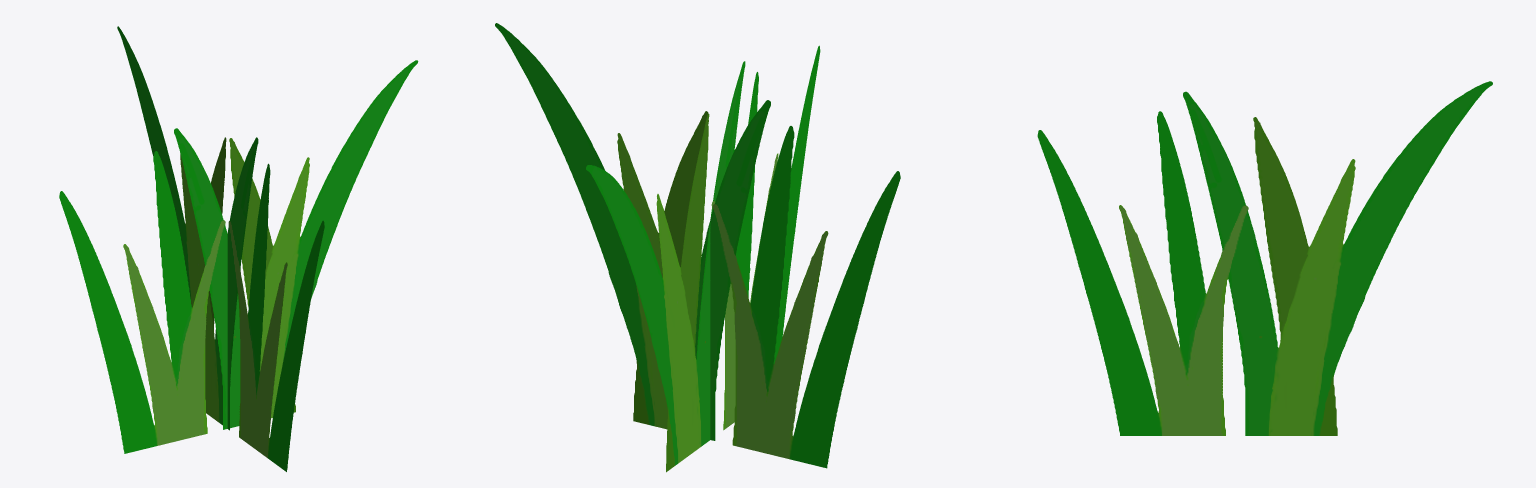
Rendered from Forest_Grass_Tuft.fbx.
3 renders of one model, left to right at view 1: azimuth 30°, elevation 25°; view 2: azimuth 150°, elevation 25°; view 3: azimuth 270°, elevation 25°, orthographic. The views are drawn at different scales.
Parts seen in each view (by area): view 1: Forest_Grass_Tuft.001; view 2: Forest_Grass_Tuft.001; view 3: Forest_Grass_Tuft.001.
Part boxes in pixels (<box>): Forest_Grass_Tuft.001: <box>59,26,418,471</box>; Forest_Grass_Tuft.001: <box>495,23,900,472</box>; Forest_Grass_Tuft.001: <box>1037,81,1492,435</box>.
Size of the model in its own units: 1 by 1 by 0.7444.
Materials: 1 (1 with a texture image).
